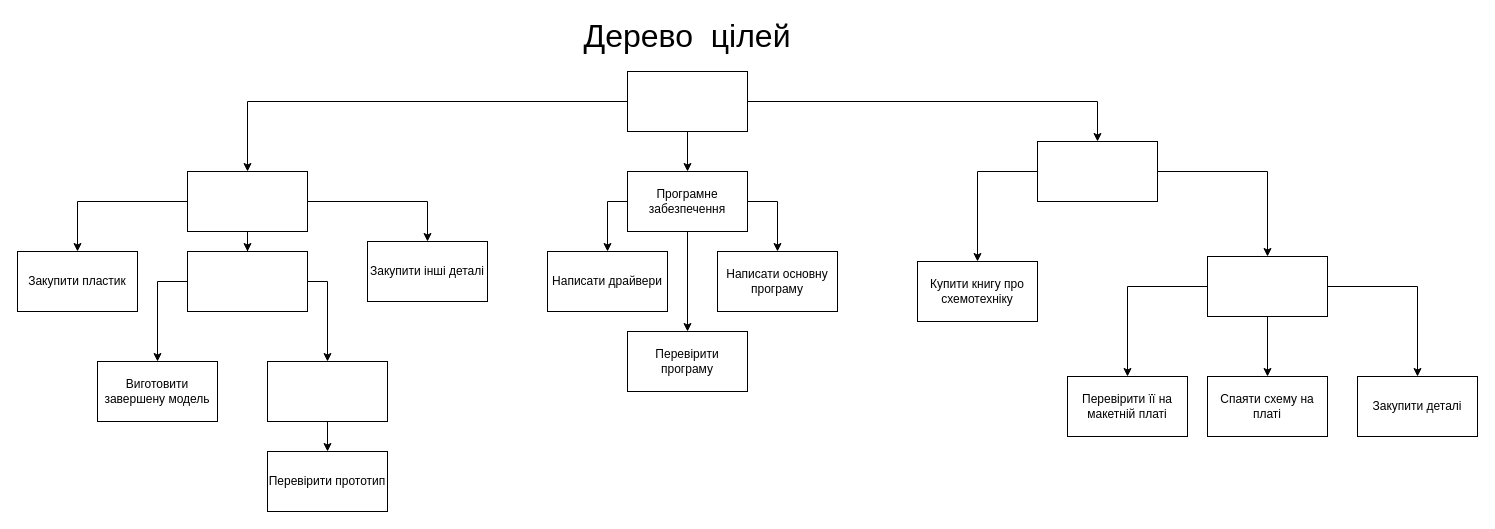
This 1495x529 diagram has some shape labels left out. Here are the shapes that lost their labels. From the top down, the box of each, then its label:
(626, 70, 748, 132): Розумний фотоштатив
(1036, 140, 1158, 202): Електроніка
(186, 170, 308, 232): Конструкція
(186, 250, 308, 312): Зробити модель
(1206, 256, 1328, 316): Скласти електричну схему
(266, 360, 388, 422): Виготовити прототип
